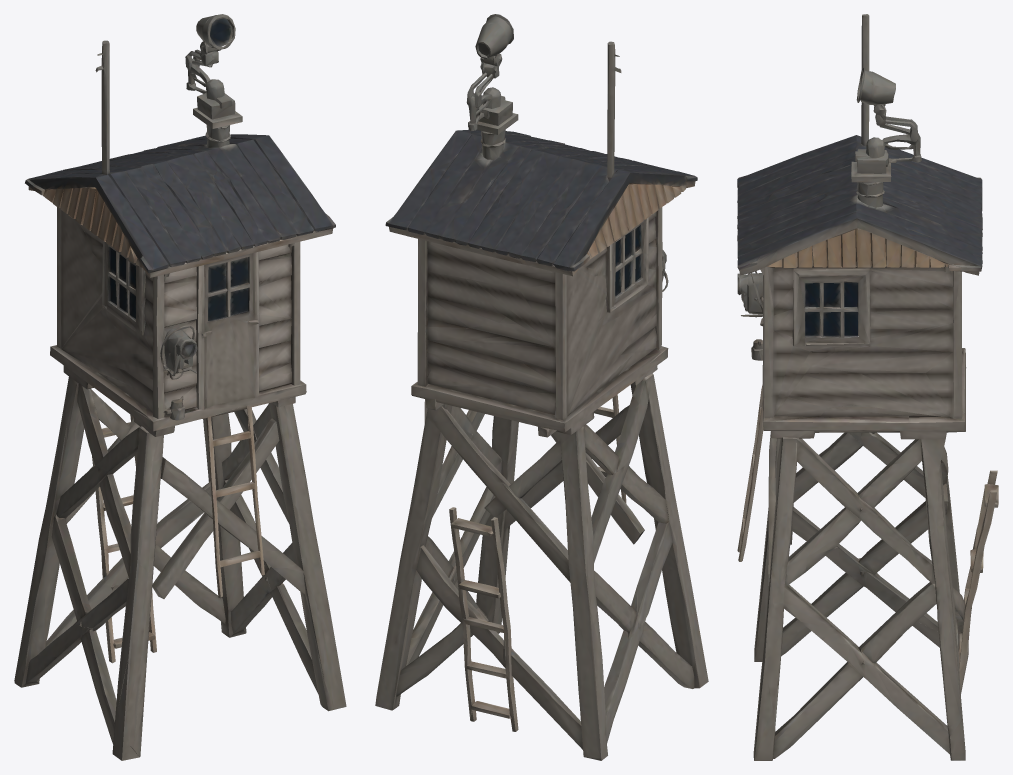
Rendered from guard_tower.glb.
3 renders of one model, left to right at view 1: azimuth 30°, elevation 25°; view 2: azimuth 150°, elevation 25°; view 3: azimuth 270°, elevation 25°, orthographic. The views are drawn at different scales.
Parts seen in each view (by area): view 1: main; view 2: main; view 3: main.
Part boxes in pixels (x1,y1,x2,y2): main: [14, 14, 346, 760]; main: [375, 14, 708, 760]; main: [737, 14, 998, 760].
Bounding box in the file's own units: 3.04 × 8.64 × 3.11.
Materials: 1 (1 with a texture image).
